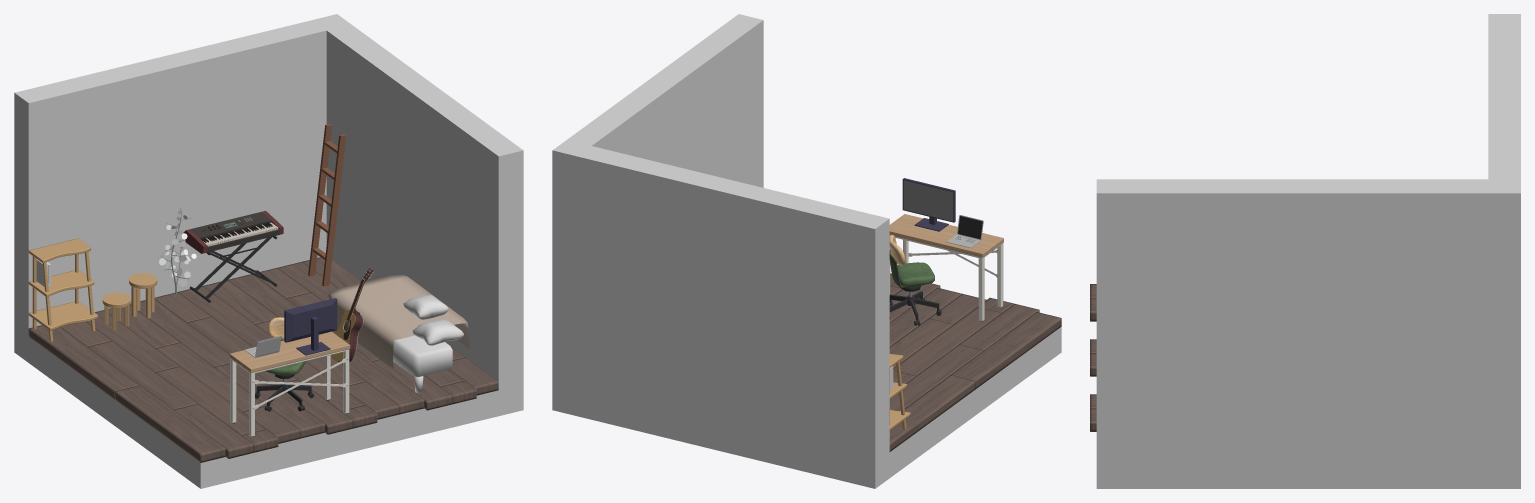
The model's file is room-prototype.glb.
The picture shows the model from 3 angles, left to right: view 1: azimuth 30°, elevation 25°; view 2: azimuth 150°, elevation 25°; view 3: azimuth 270°, elevation 25°; orthographic projection. The views are drawn at different scales.
Visible parts, largest first — view 1: 平面, WoodFloor, ベッド掛け布団, Desk, Shelf, はしご, Synthesizer, モニター27インチ, ベッド, Chair, AcousticGuitar, 円柱.002 (+5 smaller); view 2: 平面, WoodFloor, Desk, モニター27インチ, Chair, Shelf; view 3: 平面, WoodFloor.
Boxes of the visible parts, x1,y1,x2,y2 form: 平面: [14, 14, 523, 488]; WoodFloor: [28, 257, 498, 462]; ベッド掛け布団: [327, 274, 469, 368]; Desk: [229, 331, 350, 437]; Shelf: [28, 238, 97, 341]; はしご: [308, 124, 346, 286]; Synthesizer: [183, 210, 283, 253]; モニター27インチ: [284, 298, 337, 355]; ベッド: [393, 335, 452, 393]; Chair: [255, 317, 314, 411]; AcousticGuitar: [330, 267, 373, 362]; 円柱.002: [190, 236, 277, 302]; 平面: [552, 14, 1061, 488]; WoodFloor: [889, 273, 1061, 451]; Desk: [889, 214, 1003, 321]; モニター27インチ: [902, 178, 955, 231]; Chair: [889, 234, 941, 325]; Shelf: [889, 353, 910, 440]; 平面: [1096, 14, 1520, 488]; WoodFloor: [1090, 284, 1096, 431].
Bounding box in the file's own units: 3.9 × 3 × 3.96.
16 materials, 6 textured.
